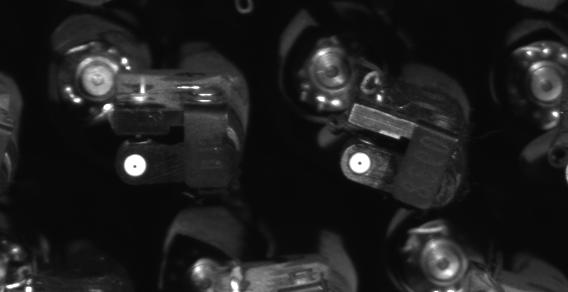fiber: (119, 153, 152, 183), (346, 149, 376, 178)
